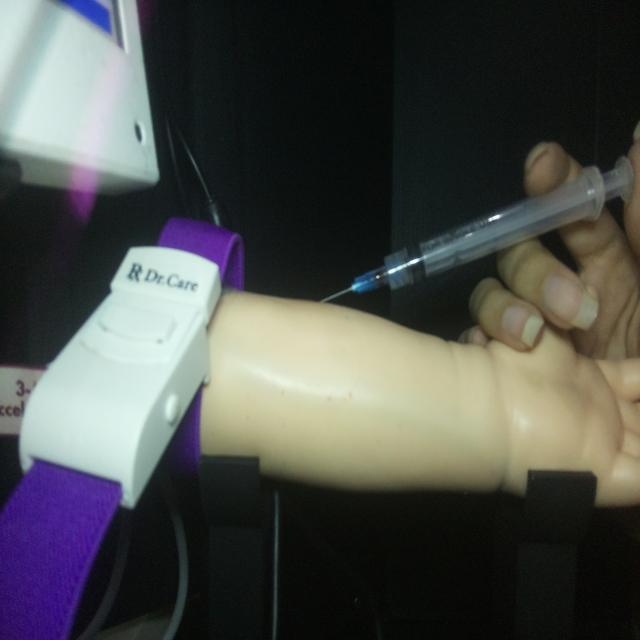16 degrees: (318, 152, 634, 306)
